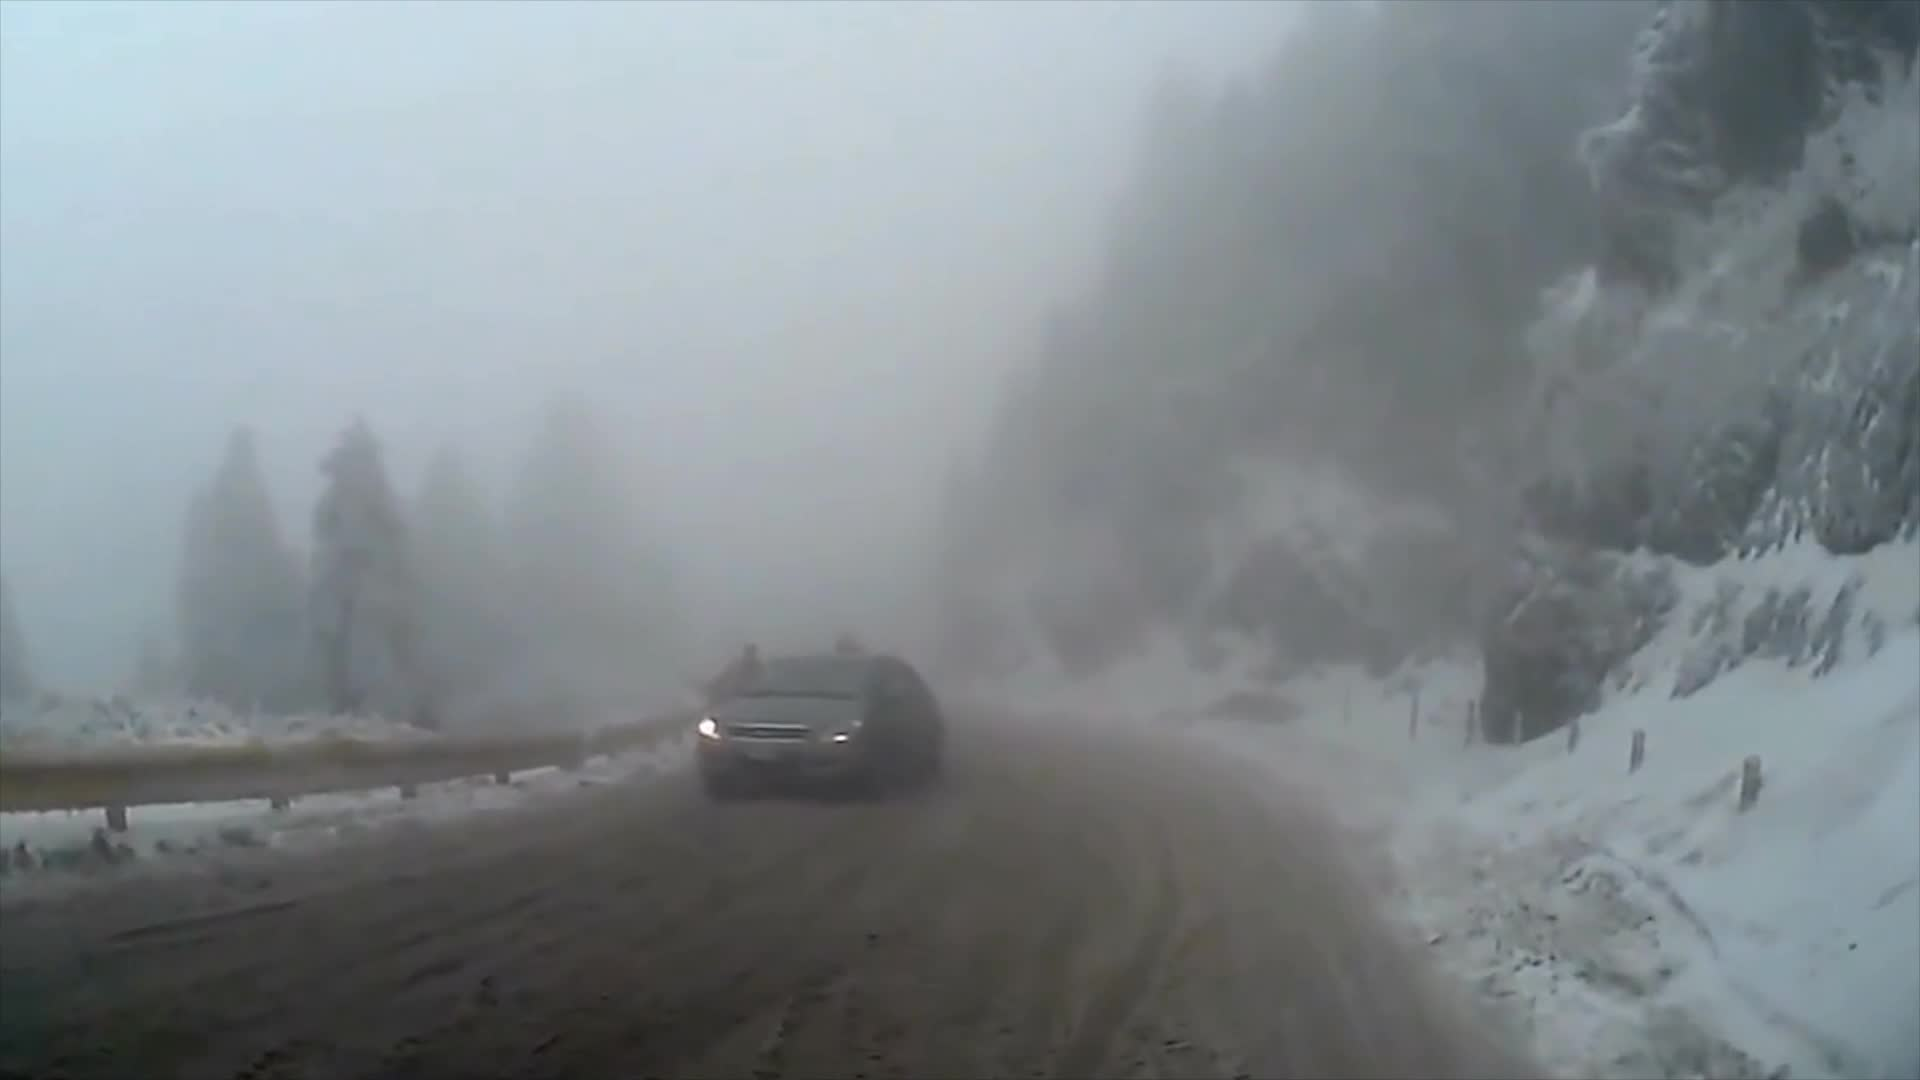vehicle: (694, 654, 943, 802)
